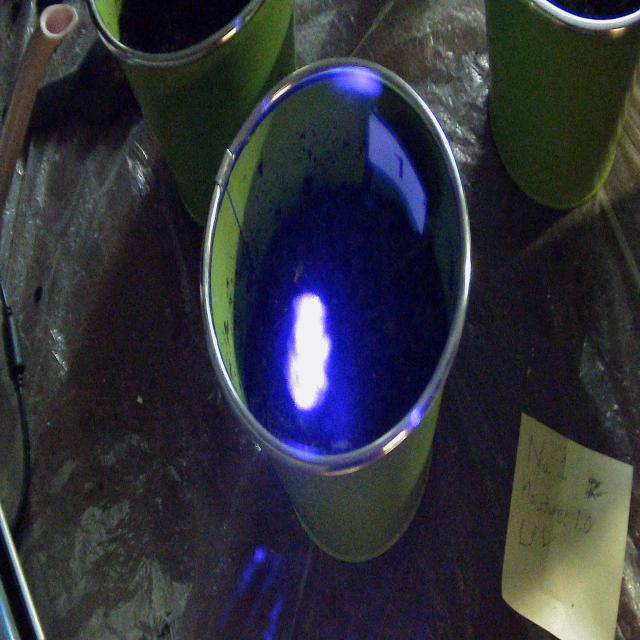soil-moisture-1.0: (286, 290, 331, 412)
